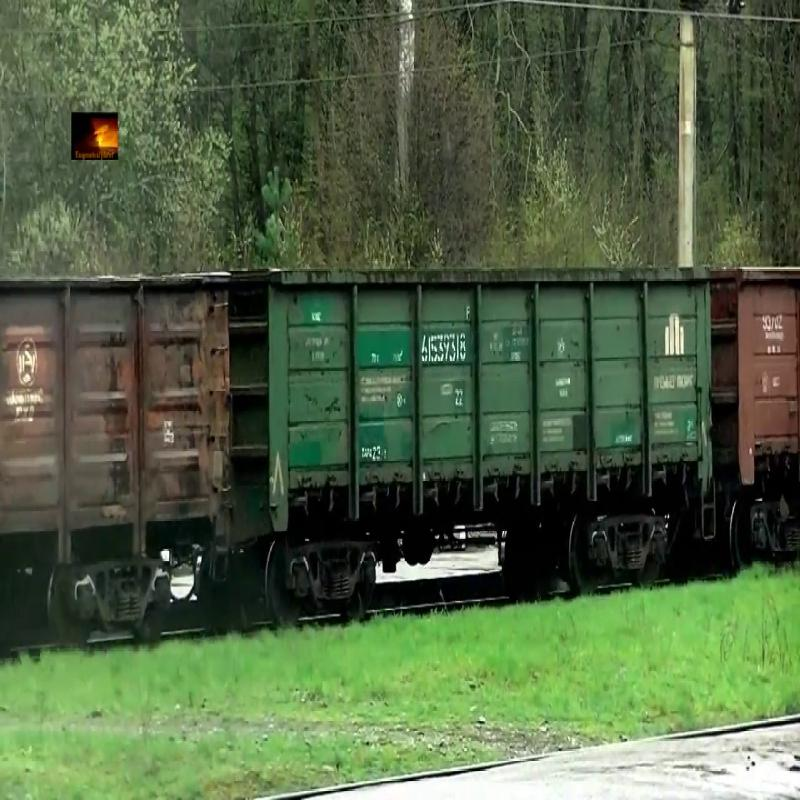train: (232, 264, 713, 537), (4, 268, 234, 567), (713, 265, 800, 490)
